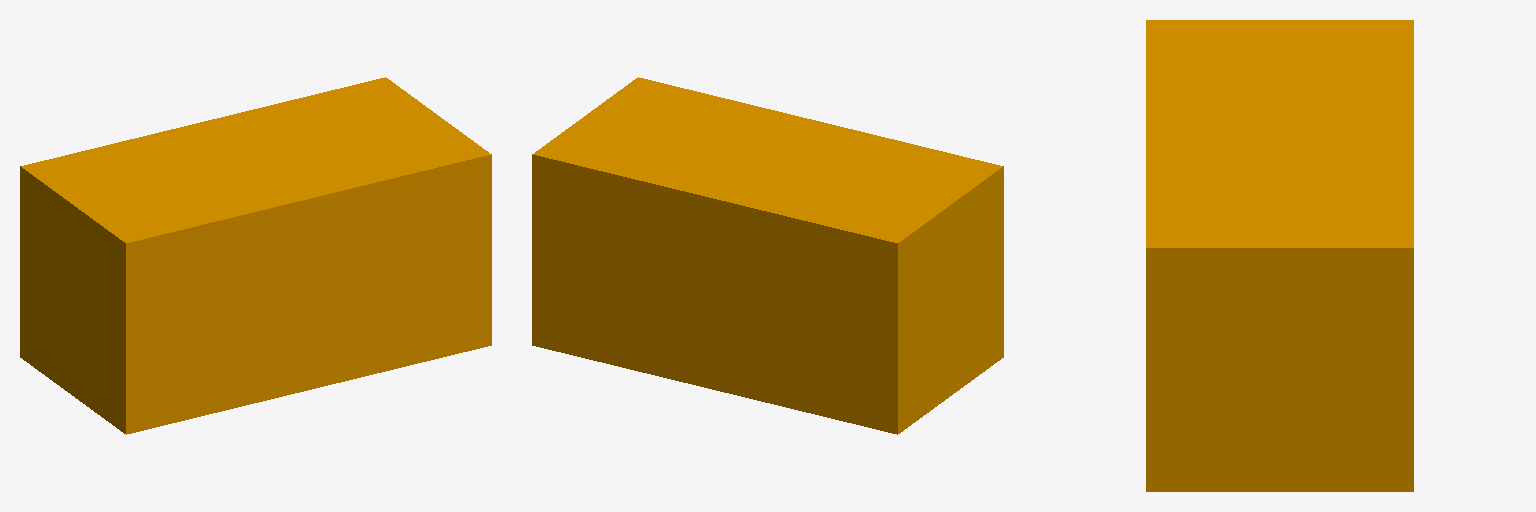
URDF robot description (boxcar):
<?xml version="1.0" ?>
<robot name="boxcar">
  <link name="box_shape">
    <!-- Inertia data is arbitrary. Its purpose here is to evade the
         joint-welding checks in rigid_body_tree.cc. The resulting world-object
         joint should be a full 6DF floating joint.
    -->
    <inertial>
      <mass value="14.28"/>
      <inertia ixx=".49991220" iyy=".77843904" izz=".49991220"/>
    </inertial>
    <visual>
      <origin rpy="0 0 0" xyz="0 0 0.5"/>
      <geometry>
        <box size="2.0 1.0 1.0"/>
      </geometry>
    </visual>
  </link>
</robot>

--- What the picture shows (computed from the rendered views, not written in the file) ---
3 views of the same robot in one strip: view 1: azimuth 30°, elevation 25°; view 2: azimuth 150°, elevation 25°; view 3: azimuth 270°, elevation 25° (orthographic).
Model boxcar with 1 links and 0 joints (none), rooted at box_shape, posed all joints at 0.
Links seen in each view (by area): view 1: box_shape; view 2: box_shape; view 3: box_shape.
Link boxes in pixels (x1,y1,x2,y2): box_shape: (20,77,491,434); box_shape: (532,77,1003,434); box_shape: (1146,20,1413,491).
Size in the robot's own frame: 2 by 1 by 1 metres.
Geometry: primitives only (box / cylinder / sphere), no mesh files.